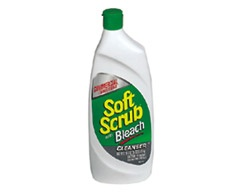grozi_84: (87, 8, 153, 184)
